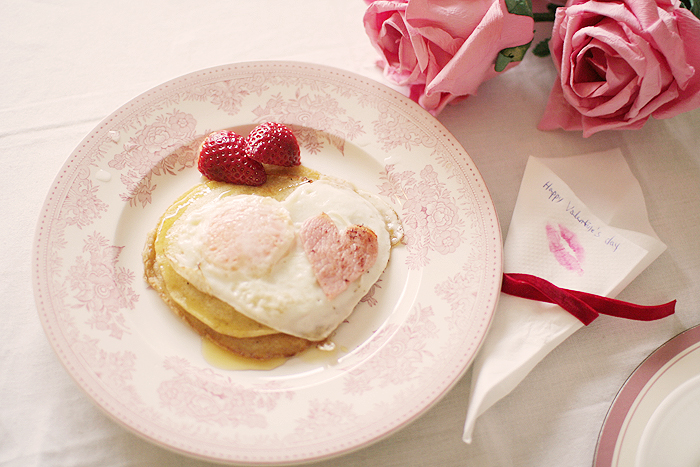fried egg: (178, 205, 385, 329)
